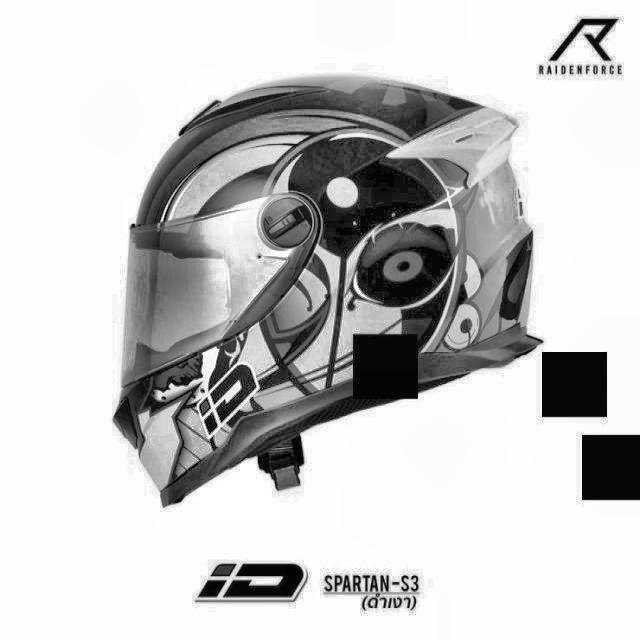Helmet: (109, 61, 549, 508)
